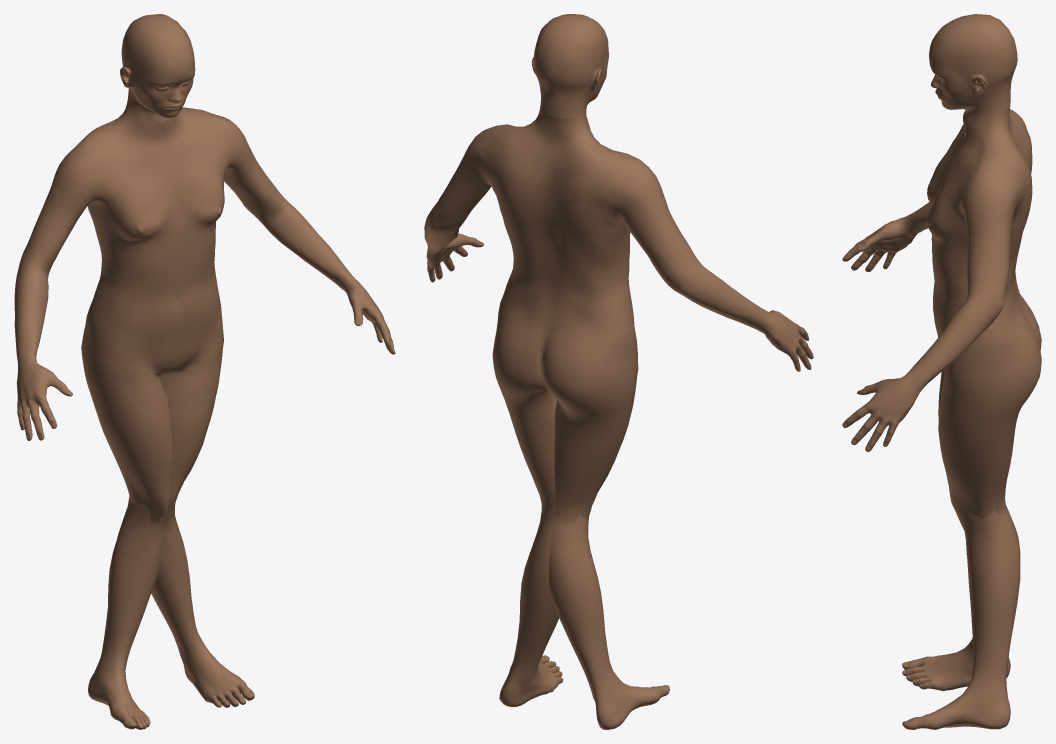
File: untitled.gltf.obj
3 views of the same model, side by side, from view 1: azimuth 30°, elevation 25°; view 2: azimuth 150°, elevation 25°; view 3: azimuth 270°, elevation 25° (orthographic). The views are drawn at different scales.
Parts seen in each view (by area): view 1: mh; view 2: mh; view 3: mh.
Part boxes in pixels (x1,y1,x2,y2): mh: (14,14,395,729); mh: (424,14,813,729); mh: (842,14,1041,729).
Bounding box in the file's own units: 9.25 × 16.44 × 4.3.
